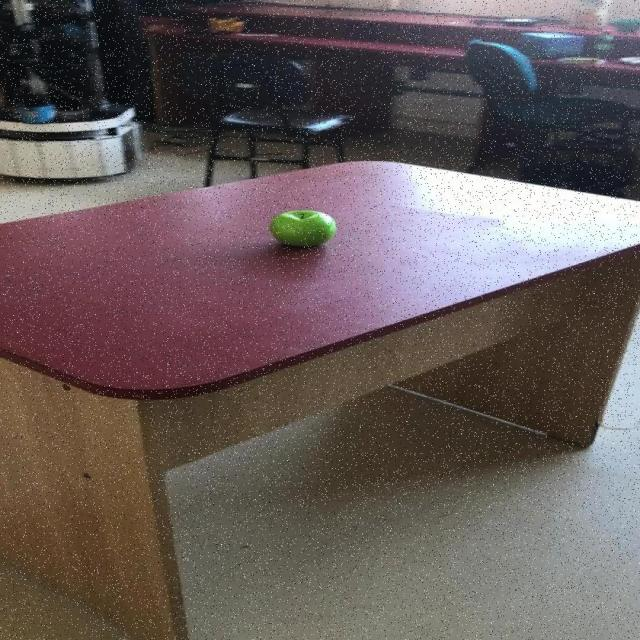Apple: (270, 209, 338, 247)
